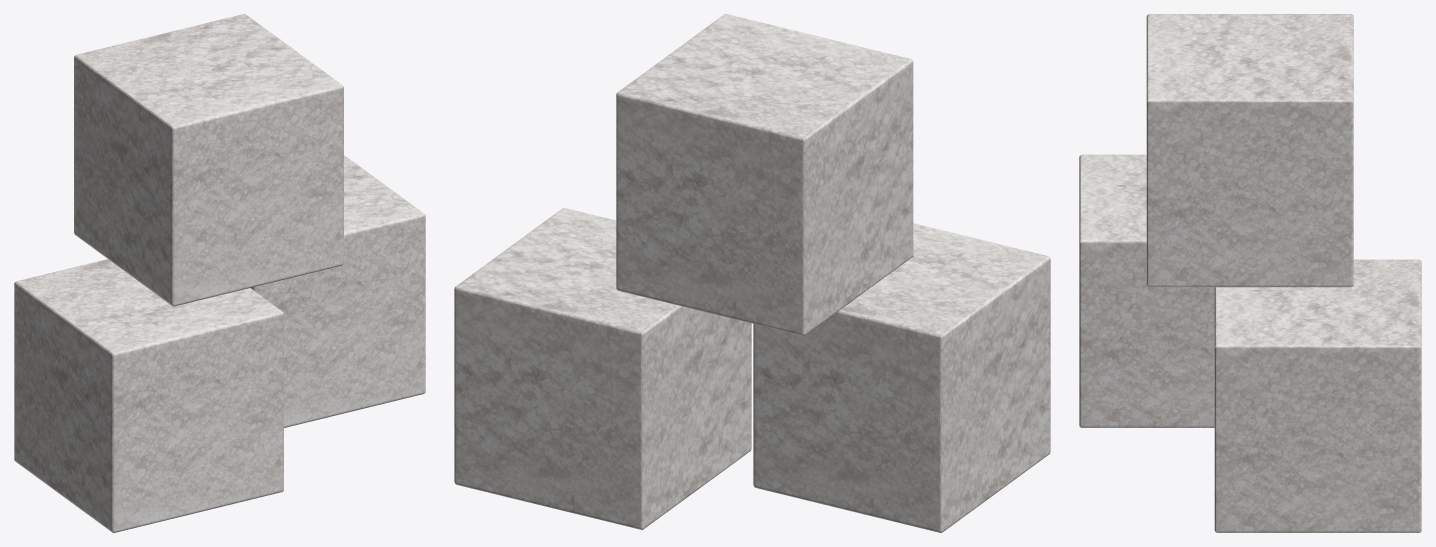
File: Glucose Combine no text.fbx
3 views of the same model, side by side, from view 1: azimuth 30°, elevation 25°; view 2: azimuth 150°, elevation 25°; view 3: azimuth 270°, elevation 25° (orthographic). The views are drawn at different scales.
Visible parts, largest first — view 1: Glucoose; view 2: Glucoose; view 3: Glucoose.
Boxes of the visible parts, x1=… form: Glucoose: x1=14, y1=14, x2=425, y2=532; Glucoose: x1=454, y1=14, x2=1050, y2=532; Glucoose: x1=1079, y1=14, x2=1421, y2=532.
Bounding box in the file's own units: 2.19 × 2 × 1.65.
1 material, 1 textured.
